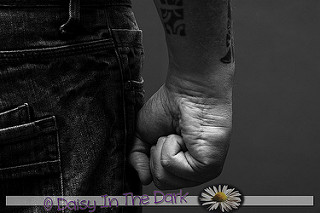fist: (133, 100, 243, 187)
